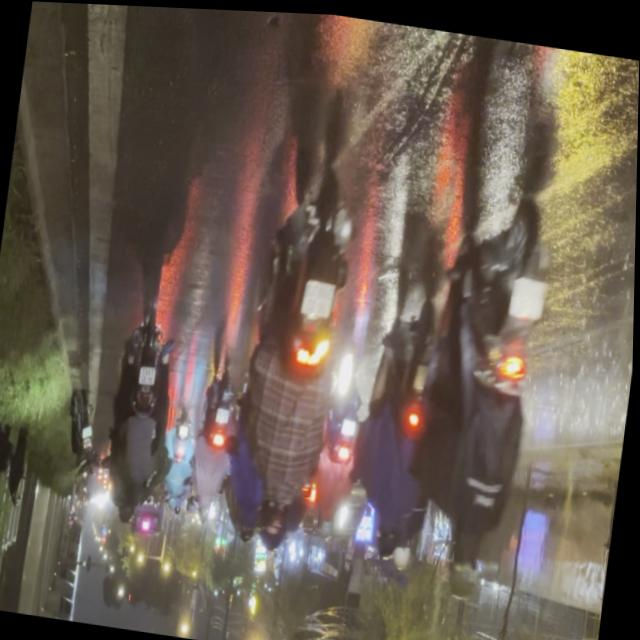helmet: (445, 530, 489, 600), (256, 488, 295, 555)
licenseplate: (206, 137, 373, 570), (394, 185, 563, 606)
nohelmet: (509, 273, 548, 318), (301, 276, 337, 318)
